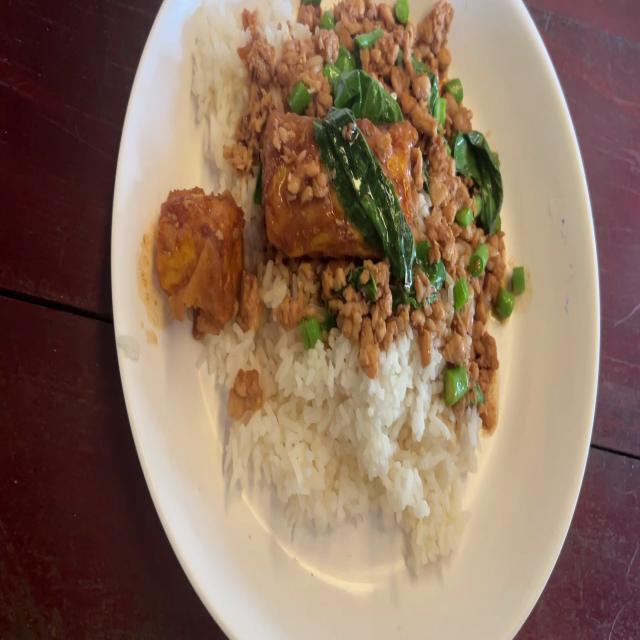01rice: (224, 362, 484, 543), (192, 2, 246, 177)
fried_tofo: (260, 113, 412, 247), (160, 196, 240, 333)
minced_pork: (408, 113, 514, 408), (254, 0, 473, 117), (256, 262, 422, 350)
stir_fried_basil: (162, 0, 528, 590)
